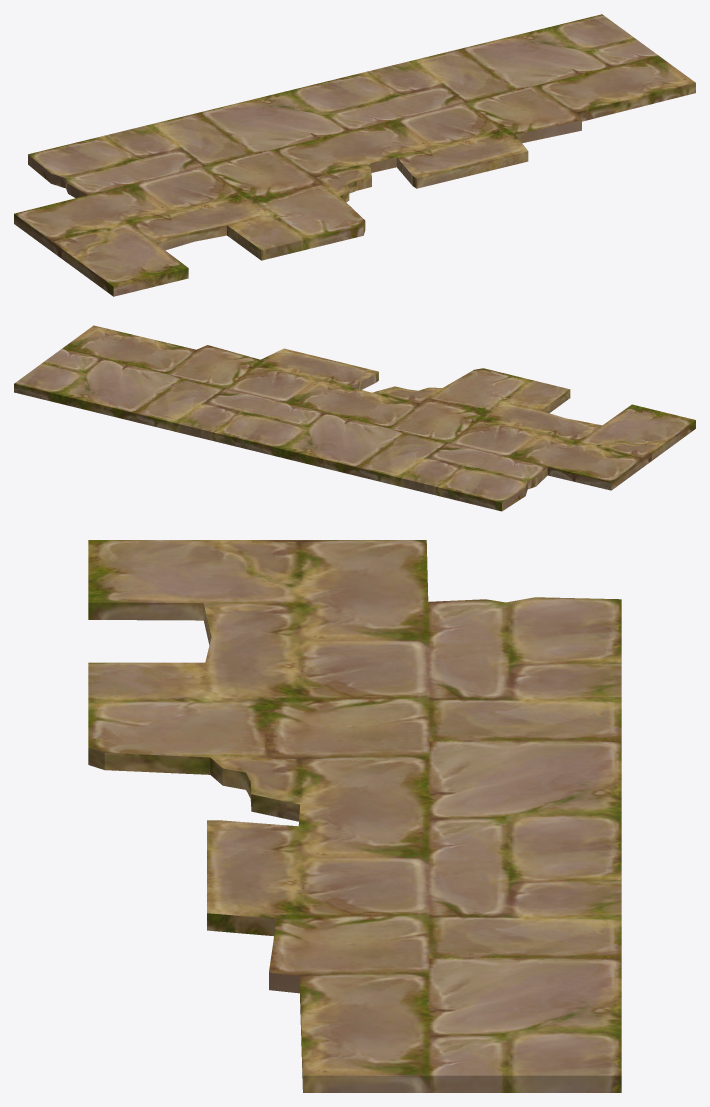
Rendered from Stage_01_01_DiMianShiKuai02.FBX.
3 renders of one model, top to bottom at view 1: azimuth 30°, elevation 25°; view 2: azimuth 150°, elevation 25°; view 3: azimuth 270°, elevation 25°, orthographic. The views are drawn at different scales.
Parts seen in each view (by area): view 1: Stage_01_01_DiMianShiKuai02; view 2: Stage_01_01_DiMianShiKuai02; view 3: Stage_01_01_DiMianShiKuai02.
Part boxes in pixels (box(x1,y1,x2,y2)): Stage_01_01_DiMianShiKuai02: box(14, 14, 695, 296); Stage_01_01_DiMianShiKuai02: box(14, 325, 695, 511); Stage_01_01_DiMianShiKuai02: box(88, 540, 621, 1092).
Size of the model in its own units: 1024 by 15.51 by 431.
